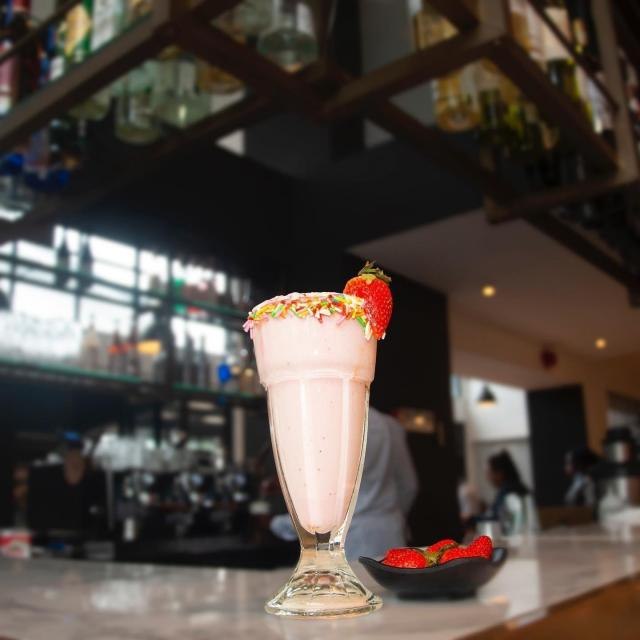glass-wine: (244, 289, 387, 622)
